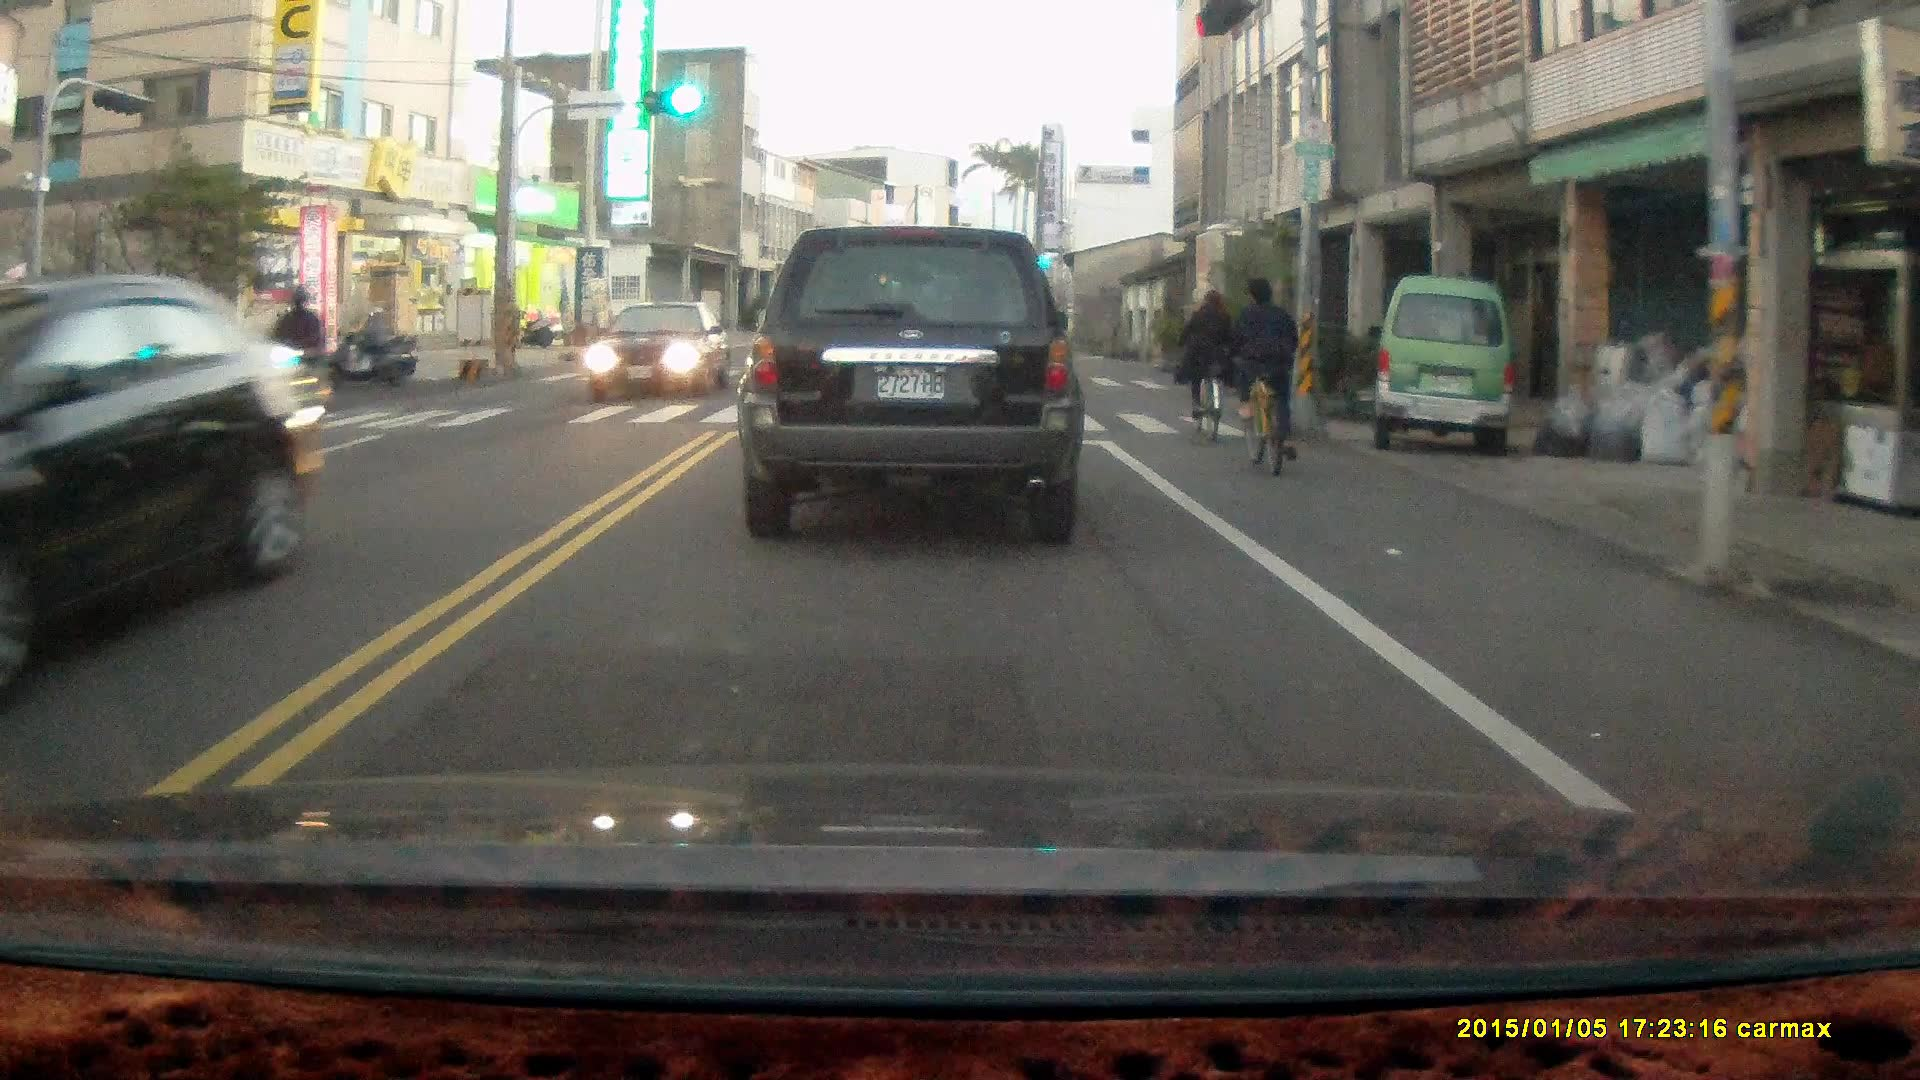rider: (1220, 274, 1302, 480), (1174, 289, 1233, 446), (324, 308, 406, 393)
vehicle: (1, 273, 330, 685), (752, 224, 1088, 533), (1370, 277, 1517, 463), (584, 302, 736, 407)
